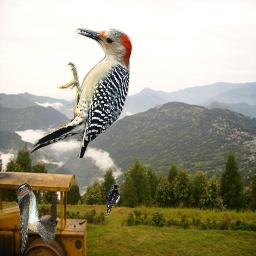Swallow: (16, 183, 56, 254), (105, 184, 120, 217)
Woodpecker: (25, 23, 146, 158)
